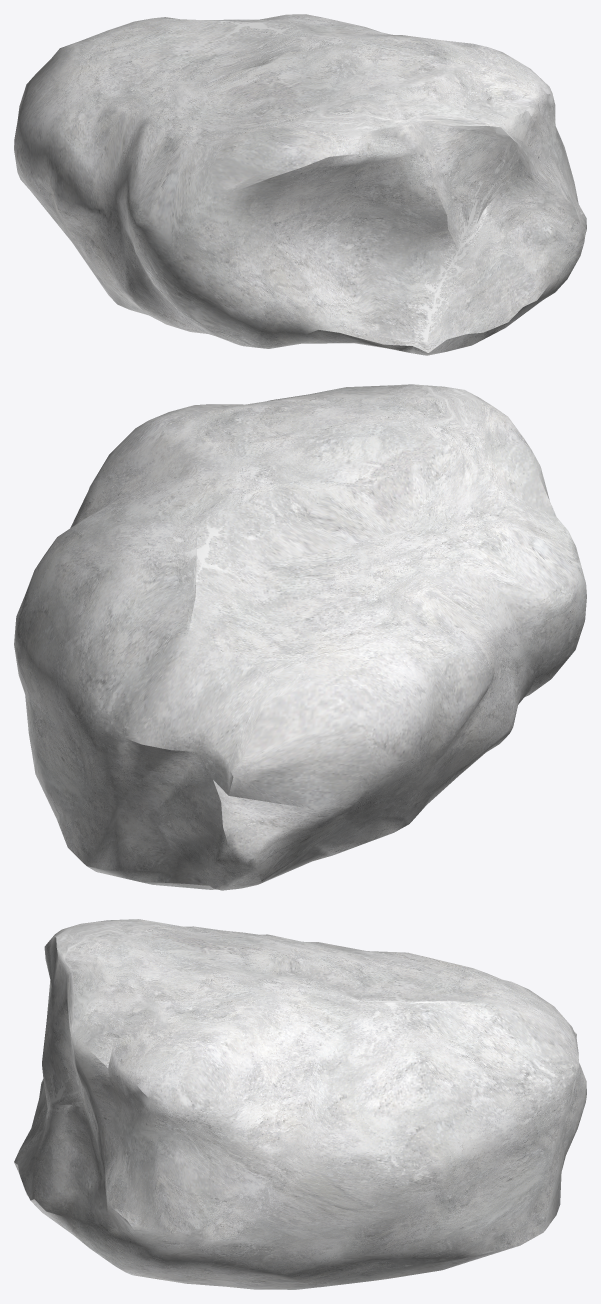
Rendered from rock_00C.fbx.
The picture shows the model from 3 angles, top to bottom: view 1: azimuth 30°, elevation 25°; view 2: azimuth 150°, elevation 25°; view 3: azimuth 270°, elevation 25°; orthographic projection. The views are drawn at different scales.
Parts seen in each view (by area): view 1: rock_00C; view 2: rock_00C; view 3: rock_00C.
Part boxes in pixels (x1,y1,x2,y2): rock_00C: (14,14,586,355); rock_00C: (14,384,586,890); rock_00C: (14,919,586,1289).
Size of the model in its own units: 222 by 144 by 262.
